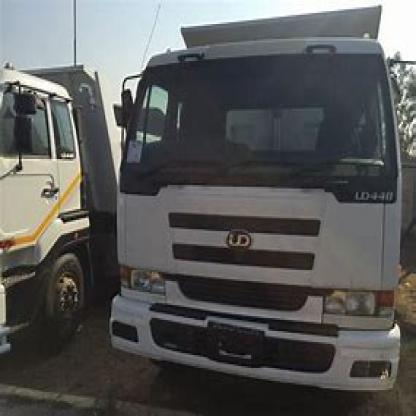dump_truck: (113, 9, 411, 400)
